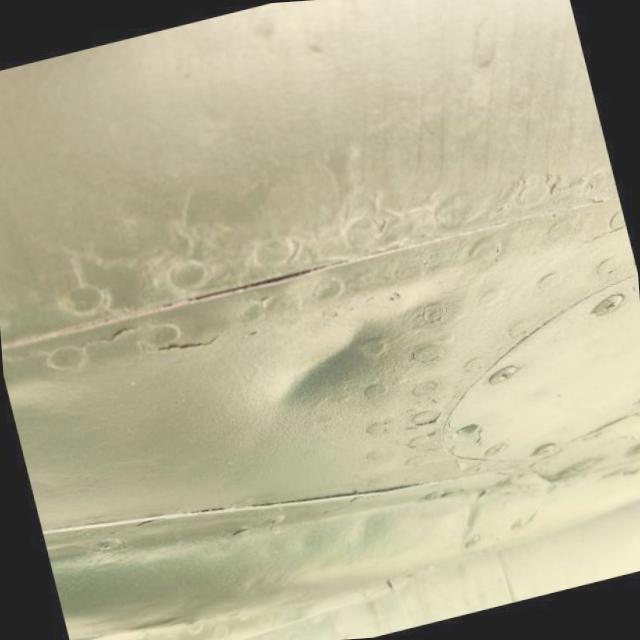dent: (260, 295, 468, 417)
